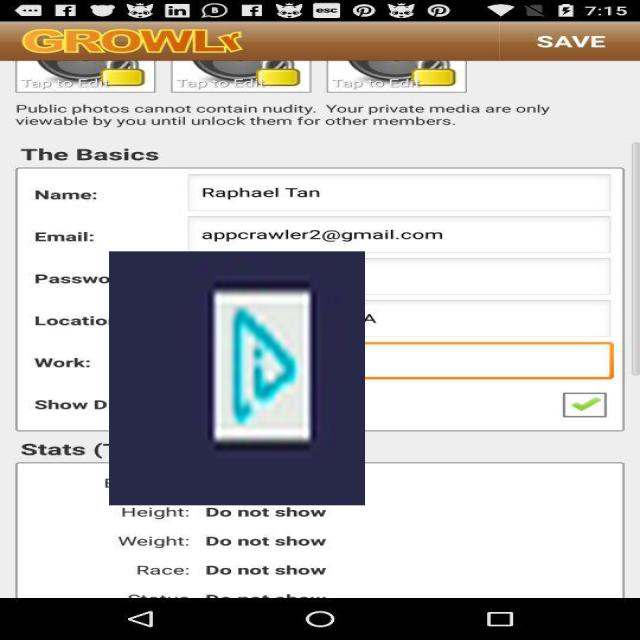sneaking: (109, 252, 365, 506)
